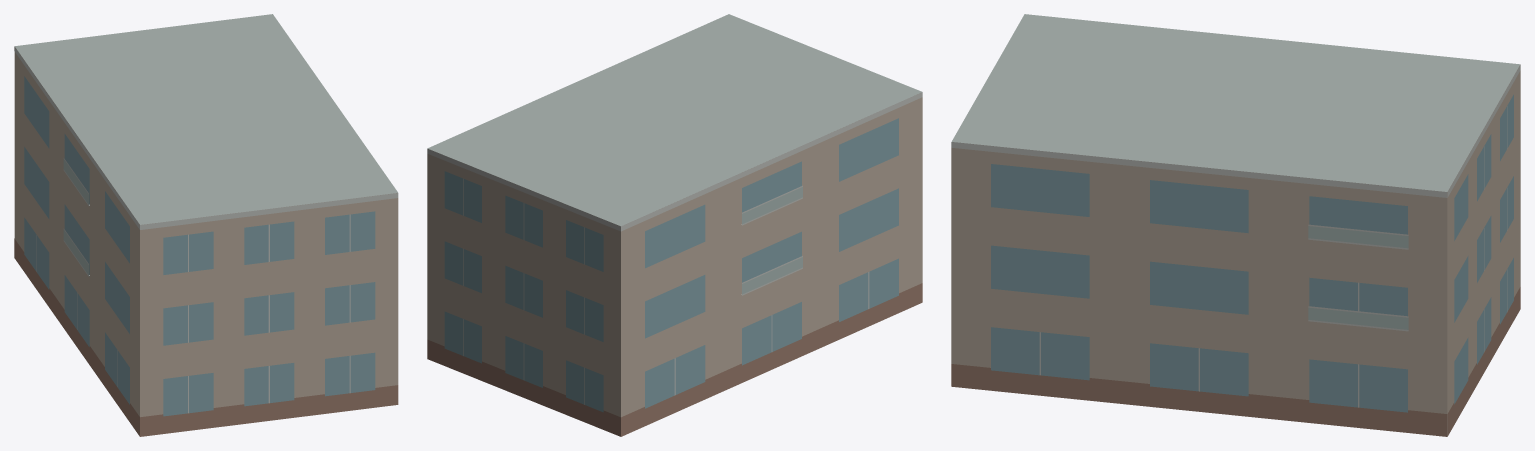
The model's file is survey-upis-32851593.glb.
3 renders of one model, left to right at view 1: azimuth 30°, elevation 25°; view 2: azimuth 150°, elevation 25°; view 3: azimuth 270°, elevation 25°, orthographic. The views are drawn at different scales.
Parts seen in each view (by area): view 1: survey-upis-32851593.tmp; view 2: survey-upis-32851593.tmp; view 3: survey-upis-32851593.tmp.
Part boxes in pixels (bbox=[...]): survey-upis-32851593.tmp: bbox=[14, 14, 398, 436]; survey-upis-32851593.tmp: bbox=[427, 14, 922, 436]; survey-upis-32851593.tmp: bbox=[951, 14, 1520, 436].
Size of the model in its own units: 15.68 by 10.05 by 21.18.
